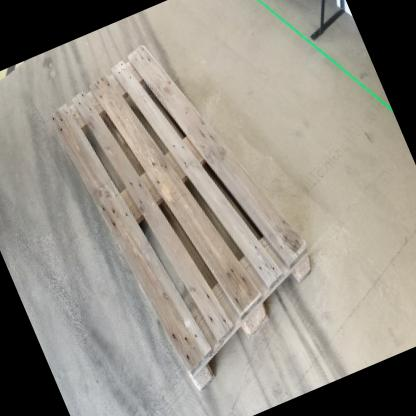BoxFace: (43, 38, 316, 399)
